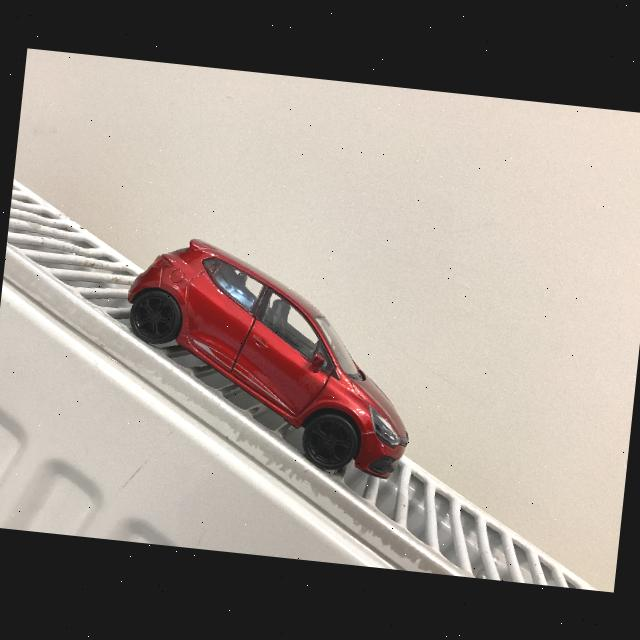Dogru_Jant: (307, 419, 353, 464), (133, 294, 174, 338)
